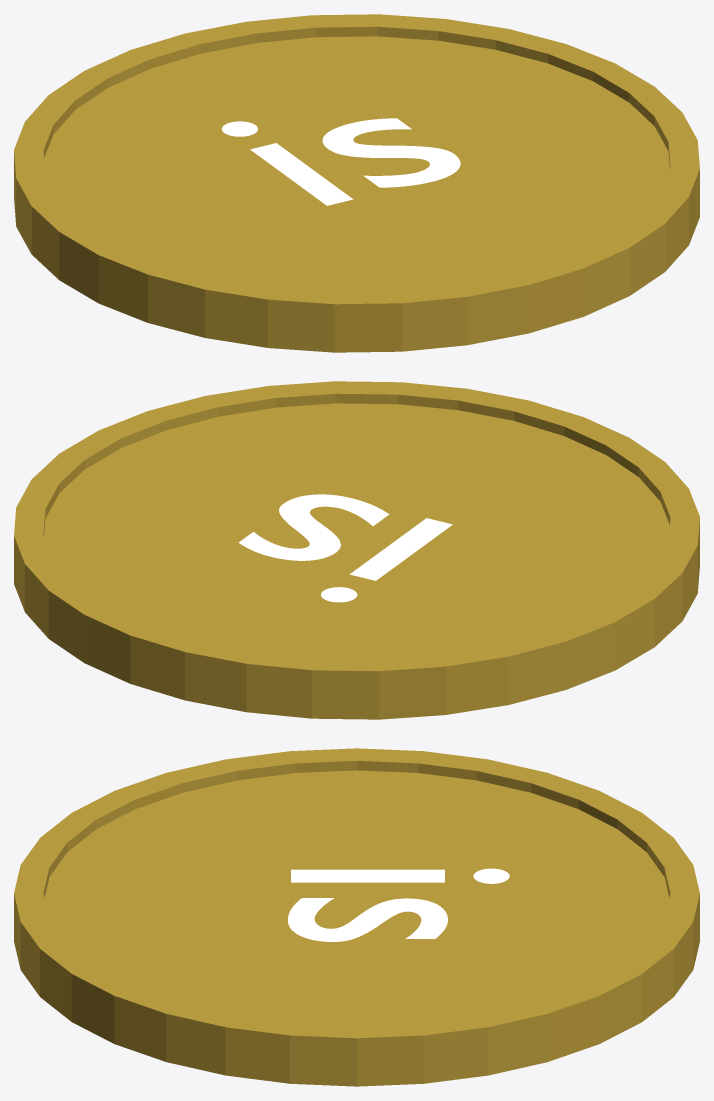
Rendered from coin.gltf.
3 views of the same model, one above another, from view 1: azimuth 30°, elevation 25°; view 2: azimuth 150°, elevation 25°; view 3: azimuth 270°, elevation 25° (orthographic).
Parts seen in each view (by area): view 1: coin, is; view 2: coin, is; view 3: coin, is.
Part boxes in pixels (x1,y1,x2,y2): coin: (14, 14, 699, 352); is: (222, 118, 460, 205); coin: (14, 381, 699, 719); is: (238, 494, 452, 602); coin: (14, 748, 699, 1086); is: (288, 868, 509, 941).
Bounding box in the file's own units: 2 × 0.1655 × 2.
